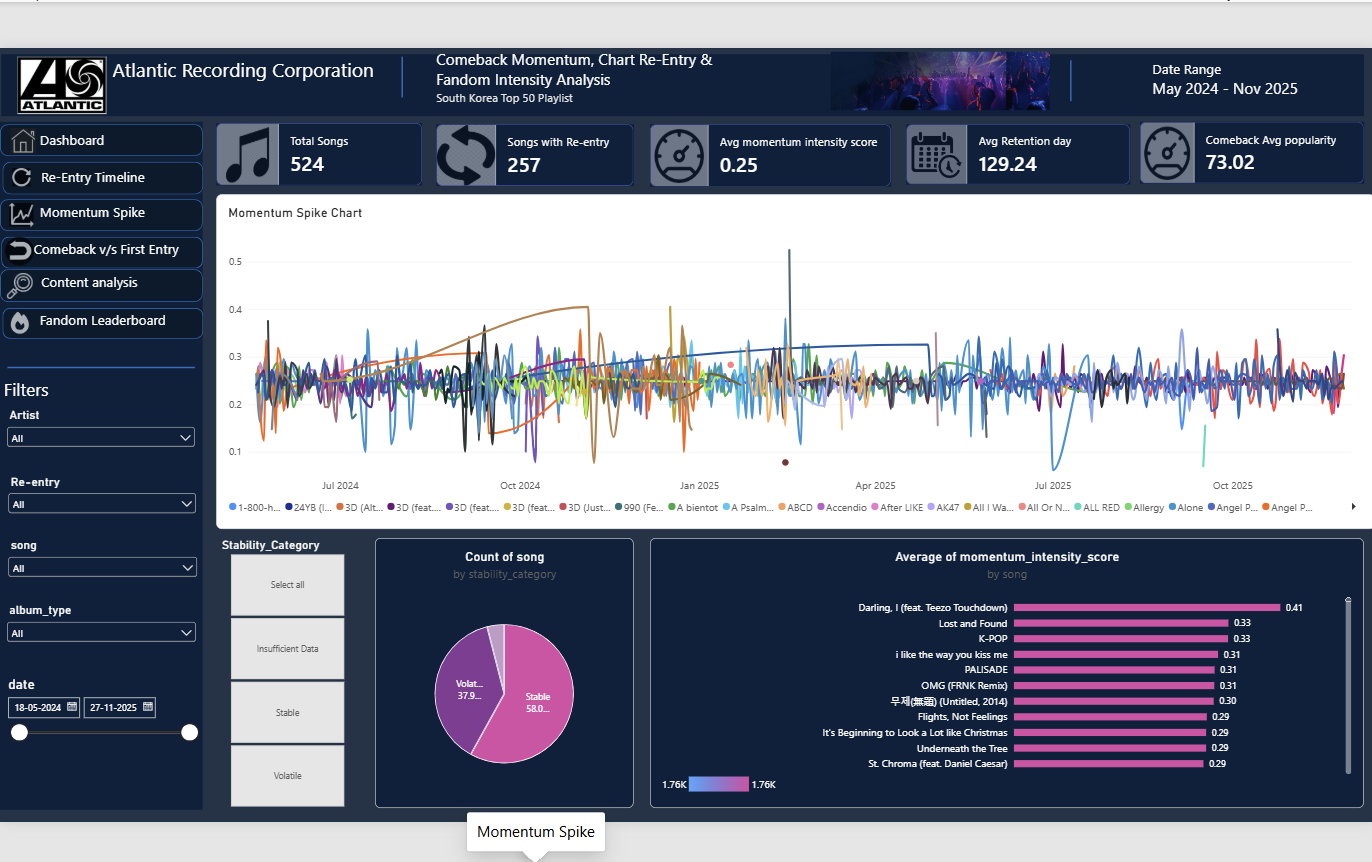

Layout of this report page (visuals, bound fields, positions):
{"tool":"powerbi","page":{"name":"Momentum Spike","canvas":[1920,1080],"ordinal":2},"visuals":[{"type":"shape","box":[0,102.9,282.9,960],"z":0},{"type":"slicer","fields":{"Values":["Atlantic_South_Korea_data_processed.artist"]},"box":[5.7,502.9,271.4,94.3],"z":1000},{"type":"slicer","fields":{"Values":["Atlantic_South_Korea_data_processed.date"]},"box":[3.1,877.7,277.1,145.7],"z":2000},{"type":"slicer","fields":{"Values":["Atlantic_South_Korea_data_processed.song"]},"box":[7.8,684.4,272.9,77.1],"z":3000},{"type":"slicer","fields":{"Values":["Atlantic_South_Korea_data_processed.re_entry"]},"box":[6.2,593.9,271.4,77.1],"z":4000},{"type":"cardVisual","fields":{"Data":["Avg(Atlantic_South_Korea_data_processed.days_retained)"]},"box":[1263.8,107,312.9,84.4],"z":5000},{"type":"cardVisual","fields":{"Data":["Count(Atlantic_South_Korea_data_processed.song)"]},"box":[302.1,105,287.1,87.1],"z":6000},{"type":"cardVisual","fields":{"Data":["Avg(Atlantic_South_Korea_data_processed.momentum_intensity_score)"]},"box":[907.7,107,336.6,87.2],"z":7000},{"type":"slicer","fields":{"Values":["Atlantic_South_Korea_data_processed.album_type"]},"box":[4.7,774.8,272.9,72.9],"z":8000},{"type":"shape","box":[1.7,8.3,1901.7,86.7],"z":9000},{"type":"image","box":[15,11.7,141.7,80],"z":10000},{"type":"textbox","box":[156.7,11.7,406.7,80],"z":11000},{"type":"shape","box":[533.3,11.7,55,56.7],"z":12000},{"type":"shape","box":[1480,18,26.7,56.7],"z":13000},{"type":"textbox","box":[608.3,0,420,86.7],"z":14000},{"type":"textbox","box":[1608.3,15,260,71.7],"z":15000},{"type":"image","box":[1076.7,5,471.7,81.7],"z":16000},{"type":"shape","box":[0,105.7,282.9,44.3],"z":17000},{"type":"image","box":[1.2,111.2,61.2,36.2],"z":18000},{"type":"textbox","box":[55.7,115.7,202.9,34.3],"z":19000},{"type":"shape","box":[2.9,158.6,280,45.7],"z":20000},{"type":"shape","box":[0,211.4,282.9,44.3],"z":21000},{"type":"shape","box":[1.4,262.9,281.4,44.3],"z":22000},{"type":"shape","box":[0,308.6,282.9,45.7],"z":23000},{"type":"image","box":[2.9,167.1,52.9,25.7],"z":24000},{"type":"image","box":[2.9,215.7,52.9,32.9],"z":25000},{"type":"image","box":[0,262.9,55,40],"z":26000},{"type":"image","box":[0,314.3,55,36.2],"z":27000},{"type":"textbox","box":[57.5,167.5,202.3,36.6],"z":28000},{"type":"textbox","box":[55.7,215.7,202.3,36.6],"z":29000},{"type":"textbox","box":[47.1,266.9,214.5,36.6],"z":30000},{"type":"textbox","box":[57.5,313.8,202.3,36.6],"z":31000},{"type":"shape","box":[2.9,362.9,280,42.9],"z":32000},{"type":"image","box":[0,366.2,55,36.2],"z":33000},{"type":"textbox","box":[55,366.2,205,36.2],"z":34000},{"type":"textbox","box":[5.7,460,277.1,32.9],"z":35000},{"type":"shape","box":[10,430,261.4,30],"z":36000},{"type":"cardVisual","fields":{"Data":["Count(Reentry_Frequency.song)"]},"box":[609.3,107,275.8,86.4],"z":37000},{"type":"cardVisual","fields":{"Data":["Avg(Atlantic_South_Korea_data_processed.popularity)"]},"box":[1591.1,102.9,312.9,86.4],"z":38000},{"type":"lineChart","title":"Momentum Spike Chart","fields":{"Category":["Atlantic_South_Korea_data_processed.date.Variation.Date Hierarchy.Year","Atlantic_South_Korea_data_processed.date.Variation.Date Hierarchy.Month","Atlantic_South_Korea_data_processed.date.Variation.Date Hierarchy.Day"],"Series":["Atlantic_South_Korea_data_processed.song"],"Y":["Max(Atlantic_South_Korea_data_processed.momentum_intensity_score)"]},"box":[301.7,204.1,1618.6,467.4],"z":39000},{"type":"slicer","fields":{"Values":["Atlantic_South_Korea_data_processed.stability_category"]},"box":[301.7,683.7,197.1,376.7],"z":40000},{"type":"clusteredBarChart","fields":{"Category":["Day_Retained.song"],"Y":["Avg(Atlantic_South_Korea_data_processed.momentum_intensity_score)"]},"box":[907,683.7,995.9,376.7],"z":41000},{"type":"pieChart","fields":{"Category":["Atlantic_South_Korea_data_processed.stability_category"],"Y":["CountNonNull(Atlantic_South_Korea_data_processed.song)"]},"box":[523.3,683.7,361,376.7],"z":42000}]}

Visuals, with their boxes on the page's 1920x1080 design canvas (x1, y1, x2, y2). These are canvas units, not pixel positions in the 1372x862 screenshot, which may show the page scaled, cropped or inside an application window:
shape: {"x1": 0, "y1": 103, "x2": 283, "y2": 1063}
slicer - Atlantic_South_Korea_data_processed.artist: {"x1": 6, "y1": 503, "x2": 277, "y2": 597}
slicer - Atlantic_South_Korea_data_processed.date: {"x1": 3, "y1": 878, "x2": 280, "y2": 1023}
slicer - Atlantic_South_Korea_data_processed.song: {"x1": 8, "y1": 684, "x2": 281, "y2": 762}
slicer - Atlantic_South_Korea_data_processed.re_entry: {"x1": 6, "y1": 594, "x2": 278, "y2": 671}
cardVisual - Avg(Atlantic_South_Korea_data_processed.days_retained): {"x1": 1264, "y1": 107, "x2": 1577, "y2": 191}
cardVisual - Count(Atlantic_South_Korea_data_processed.song): {"x1": 302, "y1": 105, "x2": 589, "y2": 192}
cardVisual - Avg(Atlantic_South_Korea_data_processed.momentum_intensity_score): {"x1": 908, "y1": 107, "x2": 1244, "y2": 194}
slicer - Atlantic_South_Korea_data_processed.album_type: {"x1": 5, "y1": 775, "x2": 278, "y2": 848}
shape: {"x1": 2, "y1": 8, "x2": 1903, "y2": 95}
image: {"x1": 15, "y1": 12, "x2": 157, "y2": 92}
textbox: {"x1": 157, "y1": 12, "x2": 563, "y2": 92}
shape: {"x1": 533, "y1": 12, "x2": 588, "y2": 68}
shape: {"x1": 1480, "y1": 18, "x2": 1507, "y2": 75}
textbox: {"x1": 608, "y1": 0, "x2": 1028, "y2": 87}
textbox: {"x1": 1608, "y1": 15, "x2": 1868, "y2": 87}
image: {"x1": 1077, "y1": 5, "x2": 1548, "y2": 87}
shape: {"x1": 0, "y1": 106, "x2": 283, "y2": 150}
image: {"x1": 1, "y1": 111, "x2": 62, "y2": 147}
textbox: {"x1": 56, "y1": 116, "x2": 259, "y2": 150}
shape: {"x1": 3, "y1": 159, "x2": 283, "y2": 204}
shape: {"x1": 0, "y1": 211, "x2": 283, "y2": 256}
shape: {"x1": 1, "y1": 263, "x2": 283, "y2": 307}
shape: {"x1": 0, "y1": 309, "x2": 283, "y2": 354}
image: {"x1": 3, "y1": 167, "x2": 56, "y2": 193}
image: {"x1": 3, "y1": 216, "x2": 56, "y2": 249}
image: {"x1": 0, "y1": 263, "x2": 55, "y2": 303}
image: {"x1": 0, "y1": 314, "x2": 55, "y2": 350}
textbox: {"x1": 58, "y1": 168, "x2": 260, "y2": 204}
textbox: {"x1": 56, "y1": 216, "x2": 258, "y2": 252}
textbox: {"x1": 47, "y1": 267, "x2": 262, "y2": 304}
textbox: {"x1": 58, "y1": 314, "x2": 260, "y2": 350}
shape: {"x1": 3, "y1": 363, "x2": 283, "y2": 406}
image: {"x1": 0, "y1": 366, "x2": 55, "y2": 402}
textbox: {"x1": 55, "y1": 366, "x2": 260, "y2": 402}
textbox: {"x1": 6, "y1": 460, "x2": 283, "y2": 493}
shape: {"x1": 10, "y1": 430, "x2": 271, "y2": 460}
cardVisual - Count(Reentry_Frequency.song): {"x1": 609, "y1": 107, "x2": 885, "y2": 193}
cardVisual - Avg(Atlantic_South_Korea_data_processed.popularity): {"x1": 1591, "y1": 103, "x2": 1904, "y2": 189}
"Momentum Spike Chart" lineChart: {"x1": 302, "y1": 204, "x2": 1920, "y2": 672}
slicer - Atlantic_South_Korea_data_processed.stability_category: {"x1": 302, "y1": 684, "x2": 499, "y2": 1060}
clusteredBarChart - Day_Retained.song x Avg(Atlantic_South_Korea_data_processed.momentum_intensity_score): {"x1": 907, "y1": 684, "x2": 1903, "y2": 1060}
pieChart - Atlantic_South_Korea_data_processed.stability_category x CountNonNull(Atlantic_South_Korea_data_processed.song): {"x1": 523, "y1": 684, "x2": 884, "y2": 1060}
